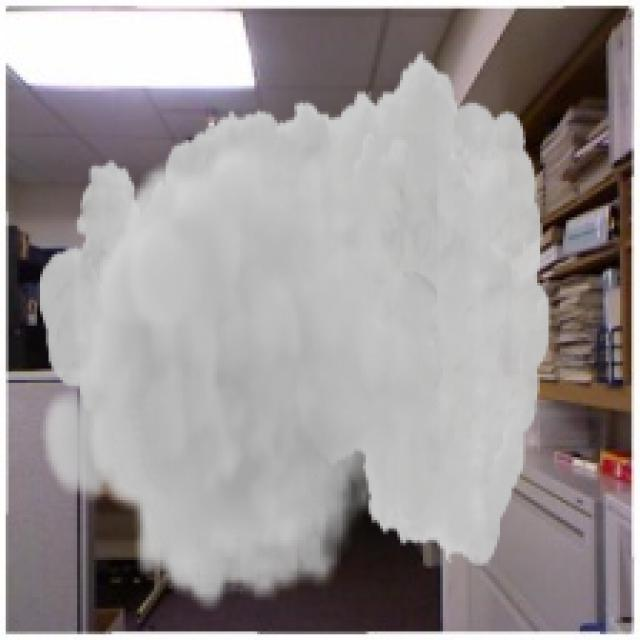smoke: (37, 49, 552, 612)
